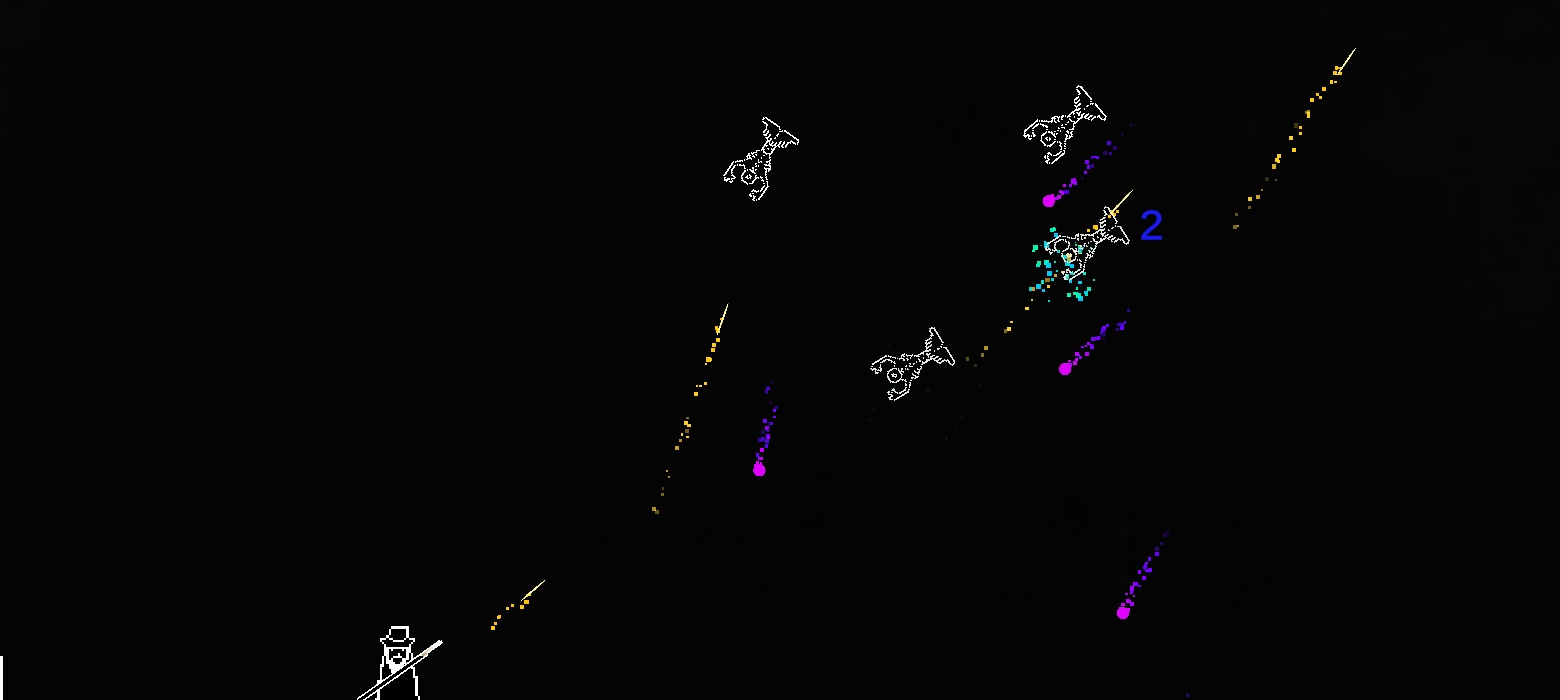enemy: (1023, 85, 1107, 164), (723, 116, 800, 202), (1045, 206, 1129, 281), (870, 327, 955, 401)
